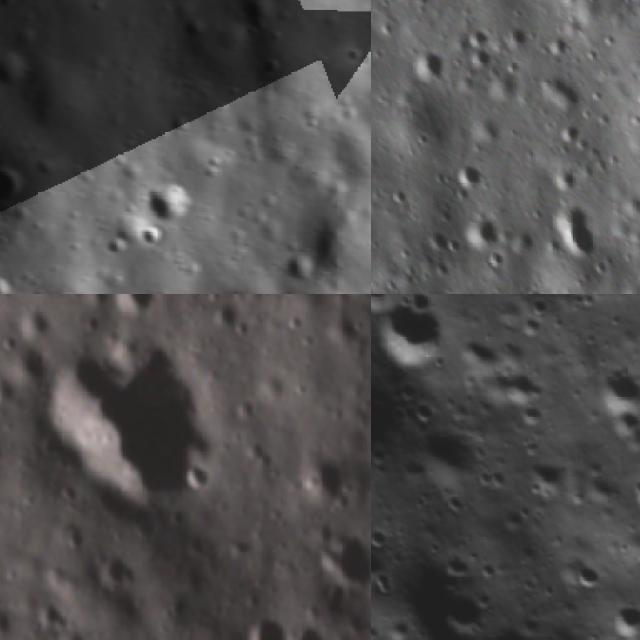crater: (40, 330, 234, 505), (398, 410, 489, 501), (371, 294, 459, 385), (371, 348, 420, 472), (552, 190, 607, 264), (583, 354, 640, 423), (514, 444, 576, 506), (450, 321, 511, 384), (464, 604, 570, 640), (316, 520, 371, 589), (298, 441, 358, 504), (433, 583, 495, 640), (456, 208, 506, 258), (237, 603, 291, 640), (148, 174, 185, 226), (605, 589, 640, 640), (0, 166, 38, 207), (410, 43, 446, 85), (0, 38, 29, 90), (275, 250, 312, 290), (451, 158, 494, 190), (621, 456, 640, 528), (289, 617, 343, 640), (550, 161, 584, 192), (371, 518, 398, 557), (500, 21, 537, 49), (239, 0, 276, 27), (456, 26, 490, 47), (470, 41, 492, 73), (0, 0, 27, 10)
